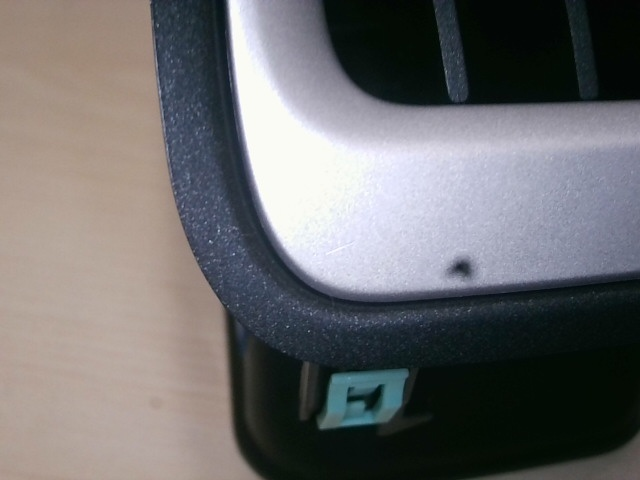NG: (325, 235, 356, 261)
